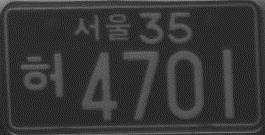0: (165, 48, 207, 122)
1: (218, 47, 240, 121)
3: (137, 11, 164, 47)
4: (80, 50, 119, 123)
5: (167, 10, 193, 45)
7: (121, 49, 161, 121)
서울_O: (72, 12, 131, 43)
허: (19, 51, 65, 98)
